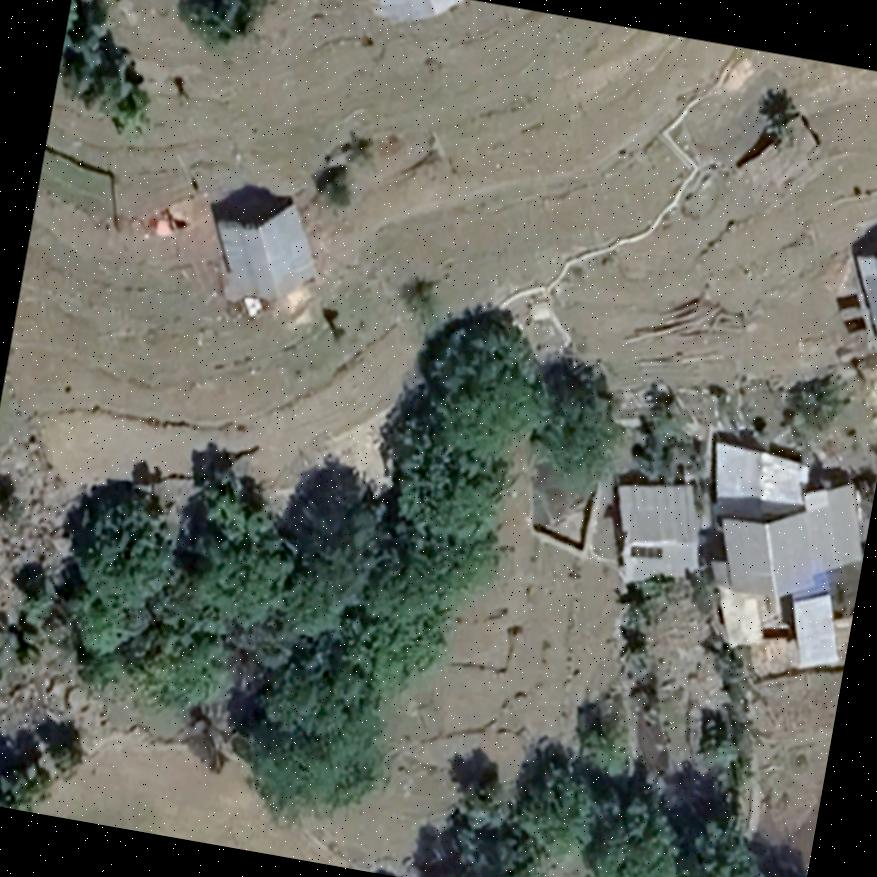Solarpanel: (625, 541, 668, 560)
